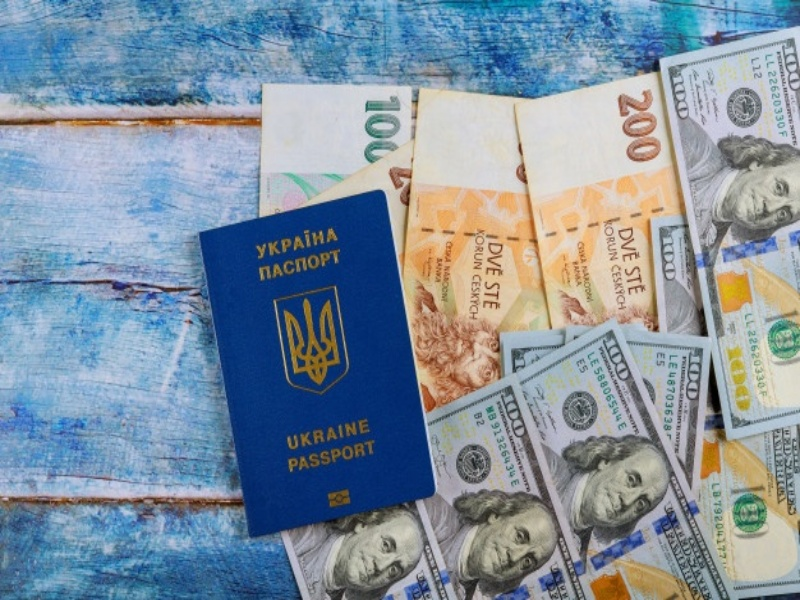cash: (281, 325, 703, 600), (405, 73, 685, 387), (659, 27, 800, 432), (261, 85, 411, 220)
